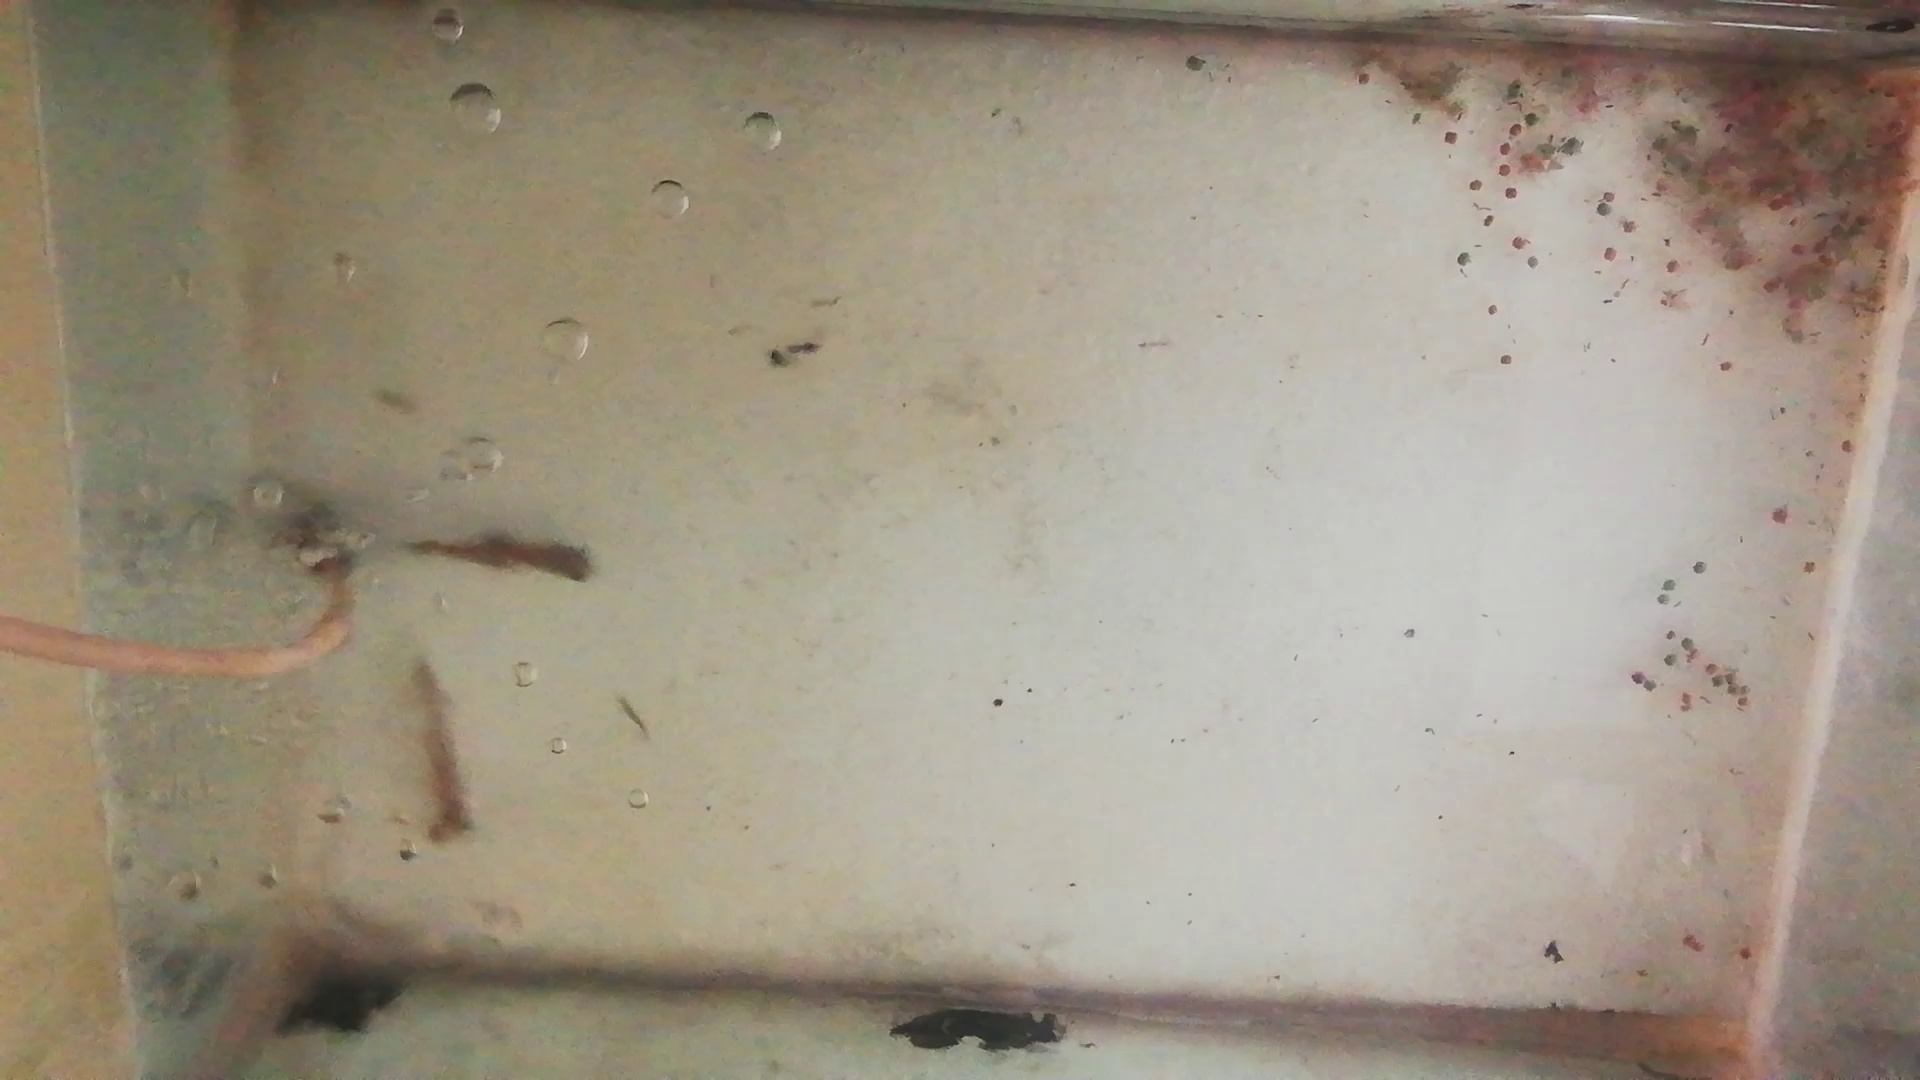fish: (406, 659, 481, 840), (407, 531, 603, 588)
